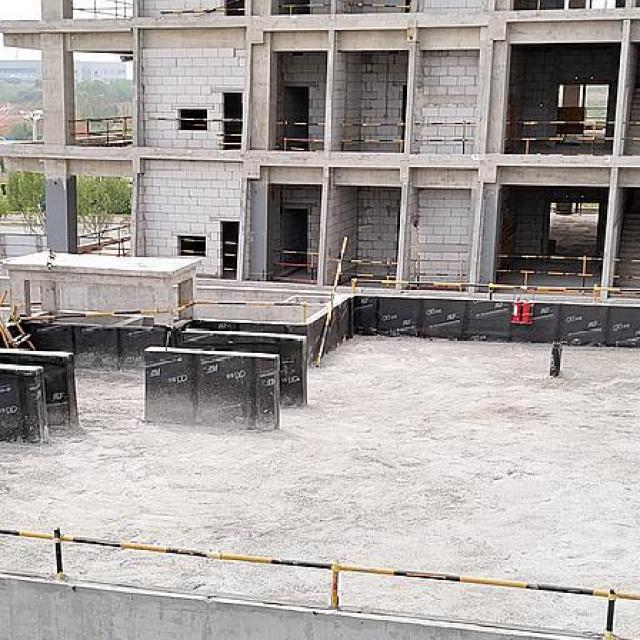Guardrail: (0, 526, 640, 638), (350, 278, 640, 305), (313, 234, 350, 369), (503, 121, 616, 155), (492, 254, 602, 286), (168, 298, 306, 322), (337, 121, 406, 153), (413, 122, 478, 154), (66, 116, 134, 146), (19, 309, 170, 321), (76, 224, 131, 256), (272, 249, 318, 284), (273, 120, 324, 151), (329, 257, 396, 280), (160, 0, 249, 17), (408, 258, 468, 283), (72, 0, 134, 20), (347, 2, 412, 15), (607, 257, 640, 280), (148, 116, 243, 123), (274, 4, 330, 15), (618, 119, 640, 141), (223, 242, 238, 272), (178, 238, 206, 253), (216, 133, 241, 146), (47, 249, 52, 270)
